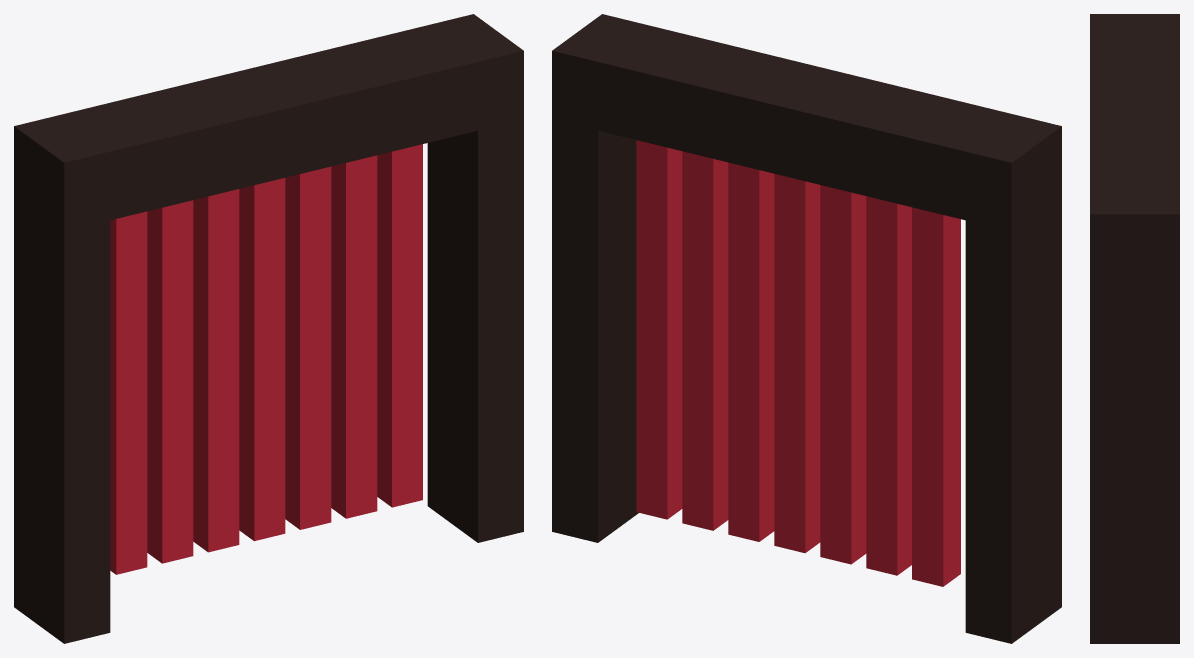
The model's file is KINETIKA_MURS_DESTRUCTIBLE_1.FBX.
The picture shows the model from 3 angles, left to right: view 1: azimuth 30°, elevation 25°; view 2: azimuth 150°, elevation 25°; view 3: azimuth 270°, elevation 25°; orthographic projection. The views are drawn at different scales.
Visible parts, largest first — view 1: Wall1, Box204, Box205, Box213, Box203, Box217, Box208, Box218, Box219, Box201, Box212, Box214 (+24 smaller); view 2: Wall1, Box199, Box198, Box200, Box197, Box221, Box217, Box208, Box216, Box220, Box224, Box222 (+24 smaller); view 3: Wall1.
Part boxes in pixels (x1=…): Wall1: x1=14, y1=14, x2=523, y2=643; Box204: x1=147, y1=477, x2=193, y2=563; Box205: x1=193, y1=238, x2=239, y2=324; Box213: x1=285, y1=215, x2=331, y2=301; Box203: x1=147, y1=401, x2=193, y2=487; Box217: x1=331, y1=204, x2=377, y2=290; Box208: x1=193, y1=466, x2=239, y2=552; Box218: x1=331, y1=280, x2=377, y2=366; Box219: x1=331, y1=356, x2=377, y2=442; Box201: x1=147, y1=249, x2=193, y2=335; Box212: x1=239, y1=454, x2=285, y2=541; Box214: x1=285, y1=291, x2=331, y2=377; Wall1: x1=552, y1=14, x2=1061, y2=643; Box199: x1=912, y1=422, x2=960, y2=510; Box198: x1=912, y1=346, x2=960, y2=434; Box200: x1=912, y1=498, x2=960, y2=586; Box197: x1=912, y1=270, x2=960, y2=358; Box221: x1=636, y1=205, x2=682, y2=291; Box217: x1=682, y1=216, x2=728, y2=302; Box208: x1=820, y1=478, x2=866, y2=564; Box216: x1=728, y1=455, x2=774, y2=541; Box220: x1=682, y1=444, x2=728, y2=530; Box224: x1=636, y1=433, x2=682, y2=519; Box222: x1=636, y1=281, x2=682, y2=367; Wall1: x1=1090, y1=14, x2=1179, y2=643.
Size of the model in its own units: 29.6 by 29.6 by 5.6.
